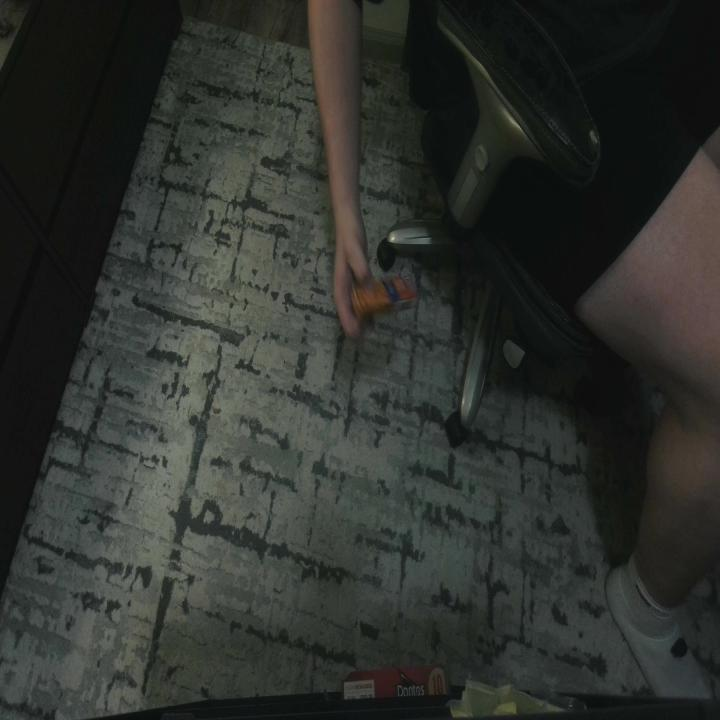Crackers: (352, 266, 423, 328)
